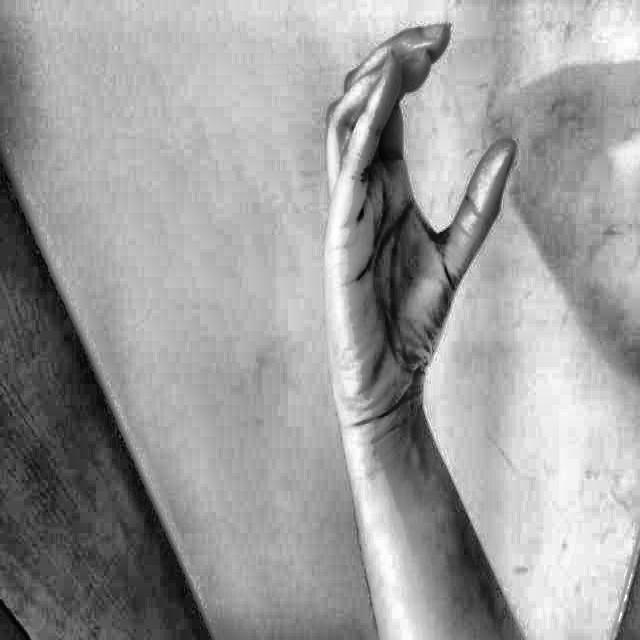A: (306, 7, 527, 448)
